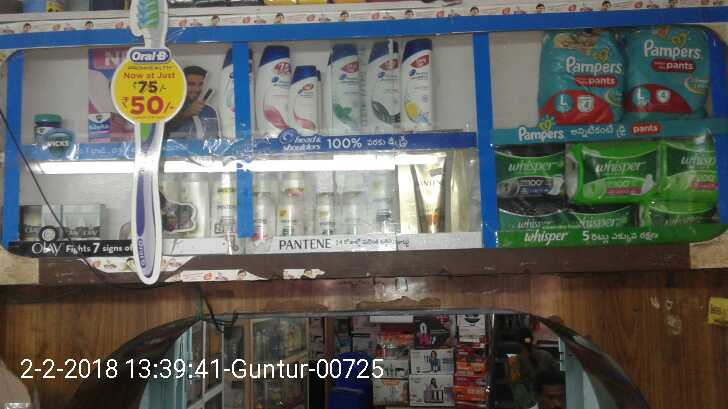beauty: (409, 142, 455, 238), (400, 39, 440, 132), (364, 37, 400, 132), (326, 44, 362, 136), (255, 42, 288, 140), (292, 57, 318, 138), (212, 172, 240, 241), (312, 188, 337, 236), (278, 190, 299, 246), (340, 191, 368, 232)
pharmacy: (539, 26, 620, 121), (622, 25, 707, 108), (562, 138, 661, 201), (492, 146, 571, 203), (656, 132, 715, 204), (30, 107, 59, 143), (84, 114, 108, 148)
